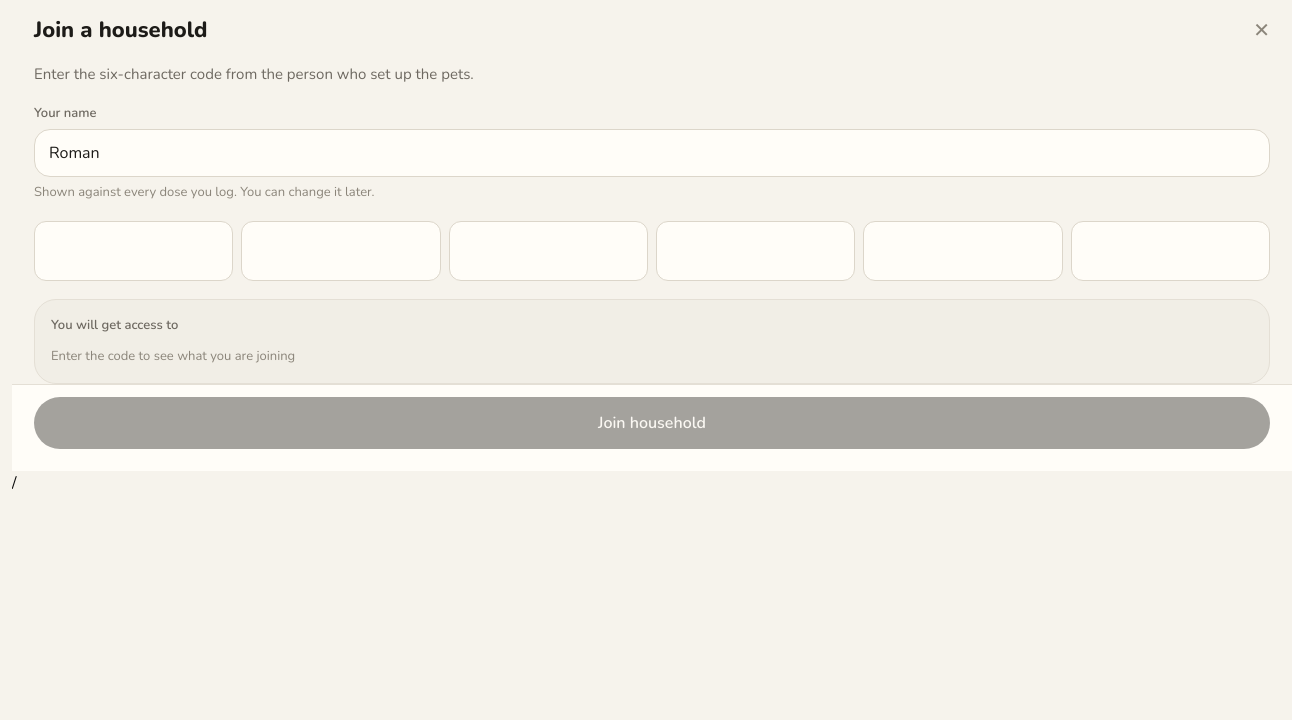
Test case: JoinHouseholdPage › SPEC §5: joining is explicit, not on the last keystroke — only pressing "Join household" joins
Step 1. Type "ABCDEF" into the field named "Code character 1" → (134, 250), box 34,220 -> 233,280
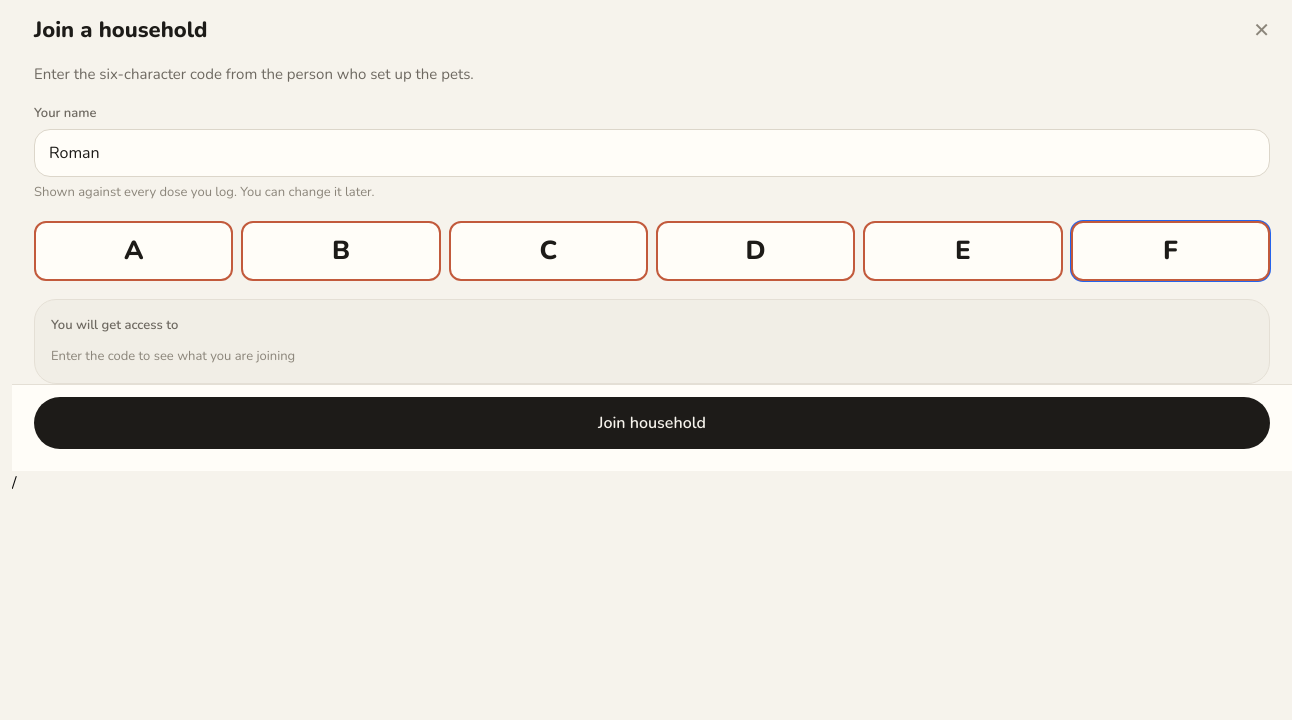
Expected: the text with test id "pathname" reads "/", 12,472 -> 16,494
Now the button "Join household" is enabled
Step 2. Click the button "Join household" → (652, 422), box 34,396 -> 1270,448
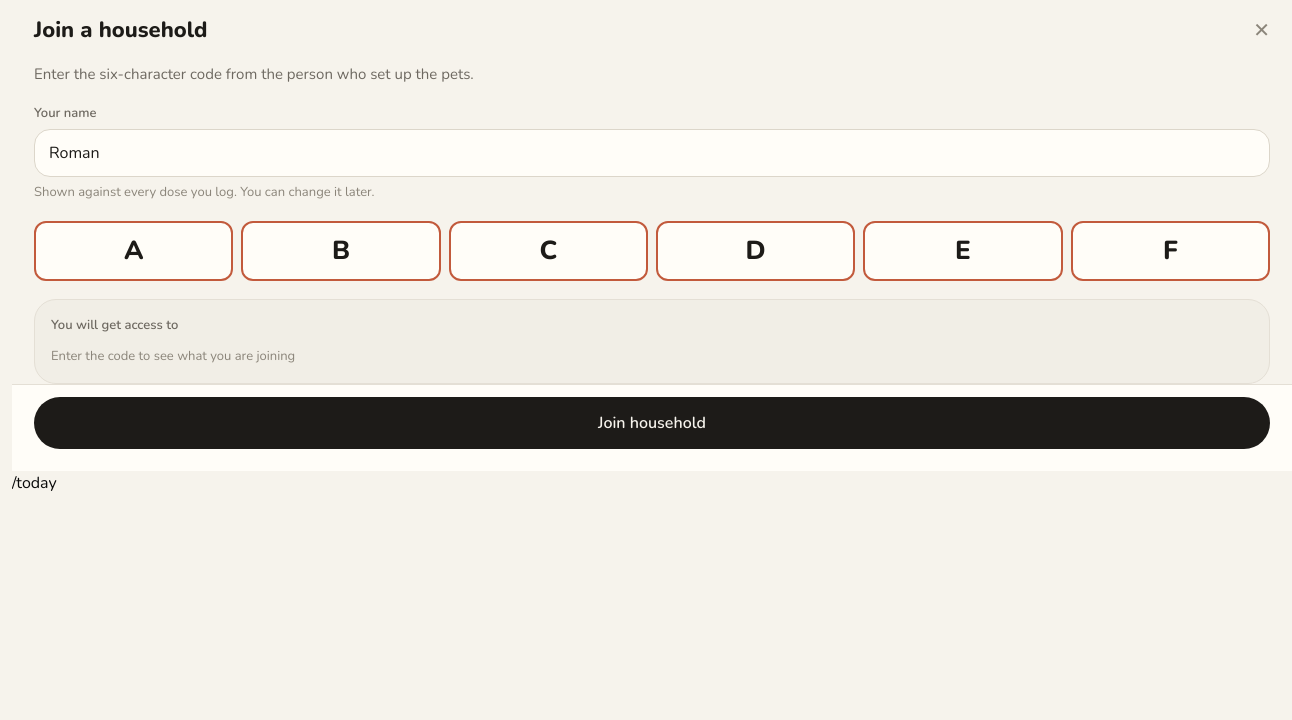
Now the text with test id "pathname" reads "/today", box 12,472 -> 57,494
